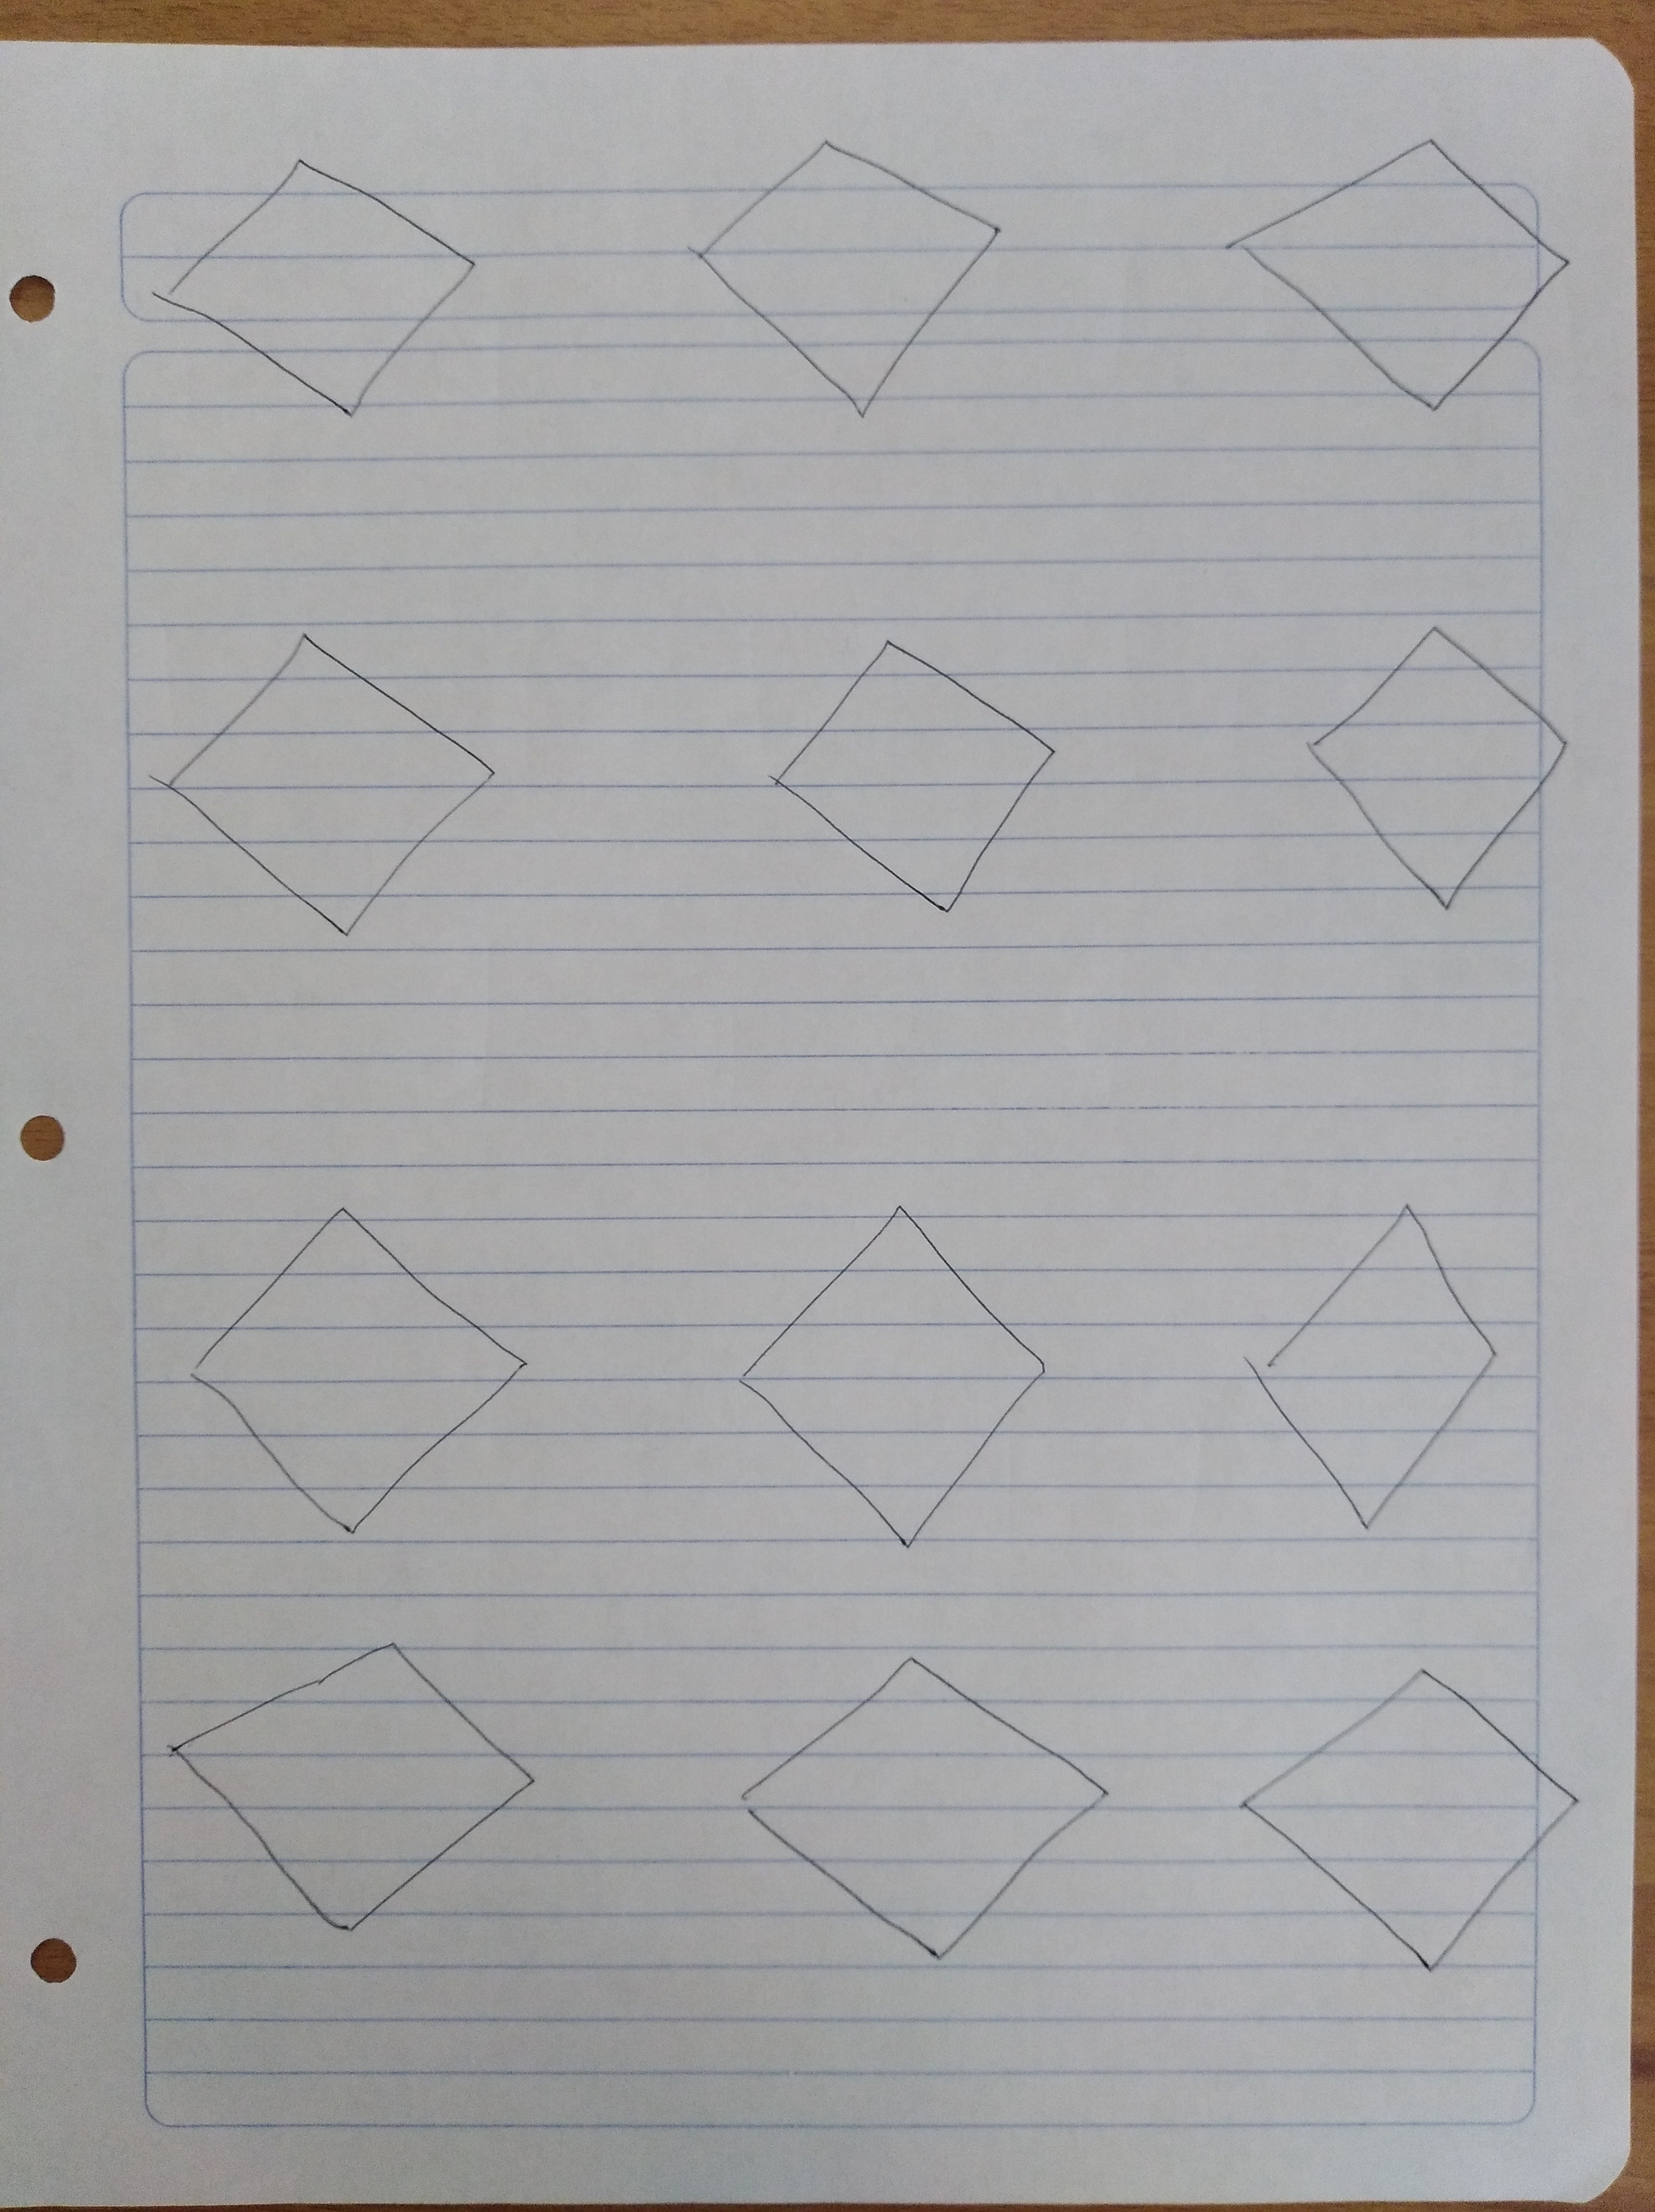decision: (702, 1623, 1153, 1981), (151, 1178, 562, 1566), (711, 1171, 1081, 1569), (143, 1614, 567, 1946), (137, 601, 522, 957), (1224, 1637, 1599, 1990), (657, 106, 1036, 454), (1215, 96, 1589, 434), (1213, 1173, 1535, 1557), (130, 122, 506, 450), (742, 605, 1074, 950), (1285, 598, 1589, 933)
